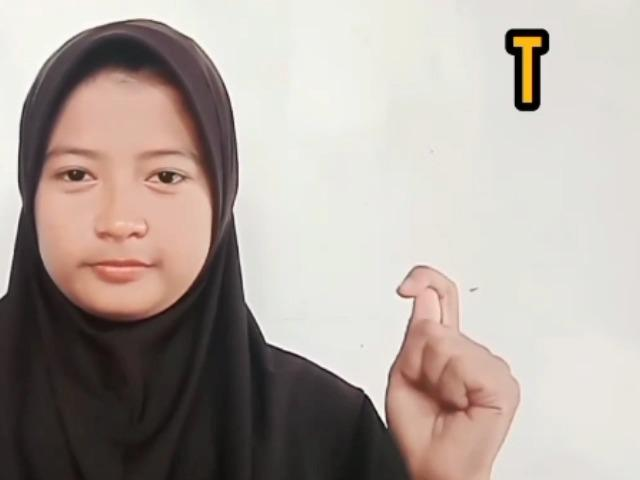T: (384, 264, 522, 480)
